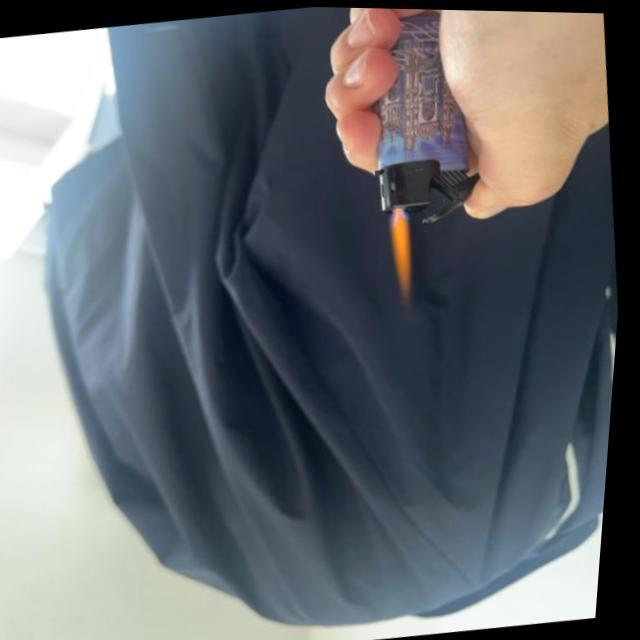fire: (385, 210, 423, 298)
